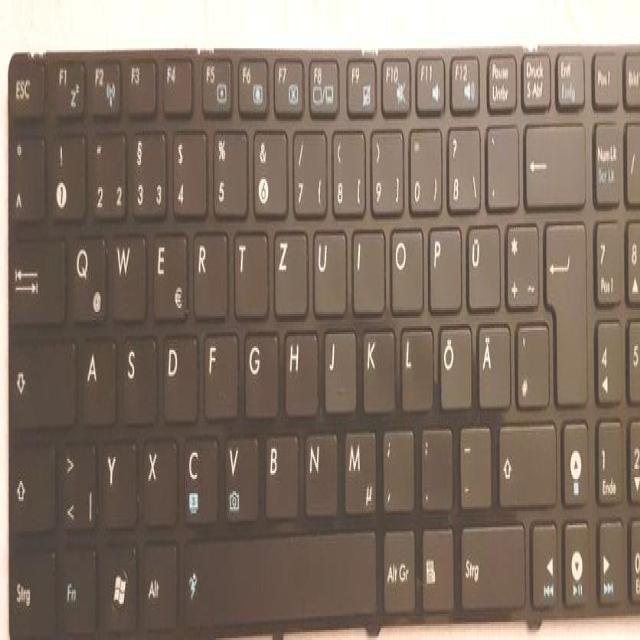0: (406, 121, 441, 209)
1: (48, 131, 85, 219)
2: (90, 129, 126, 217)
3: (129, 125, 165, 215)
4: (170, 125, 206, 213)
5: (211, 123, 247, 213)
6: (251, 123, 287, 213)
7: (291, 123, 326, 213)
8: (330, 123, 365, 213)
9: (368, 121, 403, 211)
a: (79, 334, 115, 423)
accent: (484, 117, 517, 205)
ae: (475, 318, 509, 405)
alt-left: (140, 535, 176, 632)
altgr-right: (381, 523, 414, 610)
b: (263, 431, 298, 517)
c: (181, 433, 217, 523)
caret: (9, 135, 43, 219)
comma: (381, 425, 413, 511)
d: (161, 330, 197, 421)
del: (522, 115, 583, 205)
e: (150, 227, 187, 320)
enter: (542, 214, 585, 401)
f: (202, 328, 237, 417)
g: (242, 326, 277, 417)
h: (282, 324, 317, 415)
hash: (514, 316, 547, 405)
i: (350, 223, 383, 312)
j: (322, 324, 355, 411)
k: (361, 324, 394, 411)
keyboard: (1, 24, 640, 640)
l: (399, 320, 432, 411)
less: (61, 439, 96, 533)
m: (342, 425, 375, 515)
minus: (457, 423, 491, 505)
n: (302, 429, 337, 513)
o: (387, 221, 422, 310)
oe: (437, 320, 470, 409)
p: (426, 219, 460, 308)
plus: (503, 215, 537, 306)
point: (420, 423, 452, 507)
q: (67, 231, 106, 322)
r: (191, 225, 227, 316)
s: (120, 332, 156, 425)
shift-left: (8, 443, 54, 531)
shift-lock: (9, 334, 74, 427)
shift-right: (497, 417, 554, 503)
space: (182, 525, 375, 626)
ss: (445, 119, 479, 209)
strg-left: (7, 547, 53, 640)
strg-right: (459, 519, 524, 608)
t: (231, 225, 267, 314)
tab: (9, 233, 64, 324)
u: (310, 223, 345, 314)
ue: (464, 217, 499, 308)
v: (223, 433, 258, 519)
w: (110, 229, 146, 318)
x: (141, 435, 176, 523)
y: (100, 441, 135, 525)
z: (272, 223, 306, 314)
